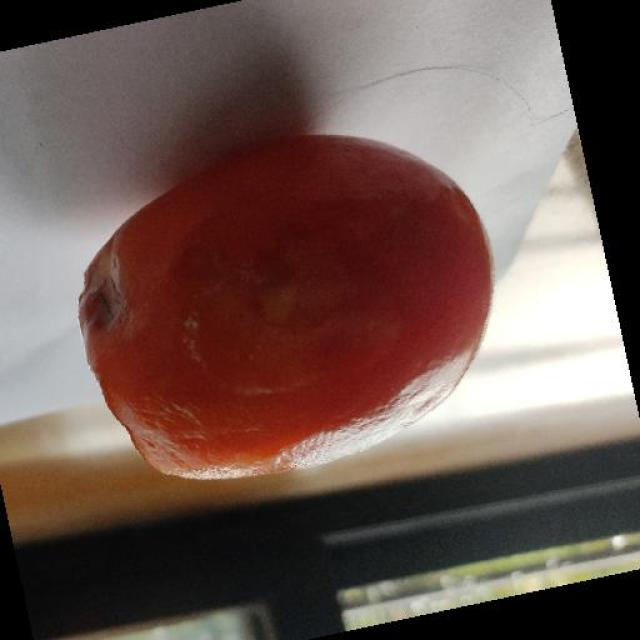Stale_tomato: (68, 129, 503, 482)
